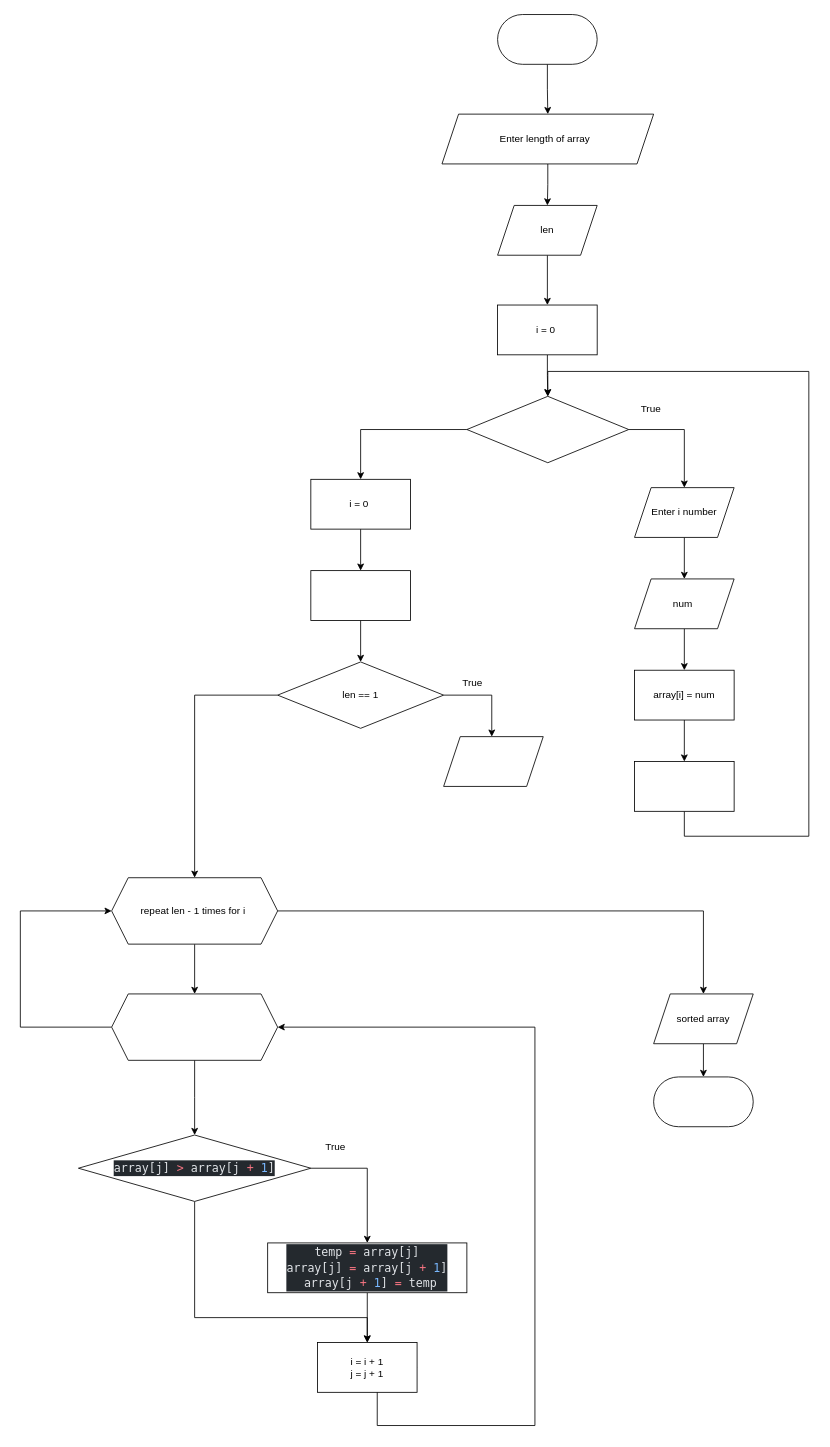
The diagram is 830 pixels wide and 1447 high, and some of its shapes have lost their labels. Here are the shapes that lost their labels. From the top down, the centre of each, then its label:
At (547,39): "Bubble Sort".
At (547,429): "len < i".
At (360,595): "j = 1".
At (493,761): "sorted".
At (684,786): "i = i + 1".
At (194,1026): "repeat len - i - 1 times for j".
At (703,1101): "END".
